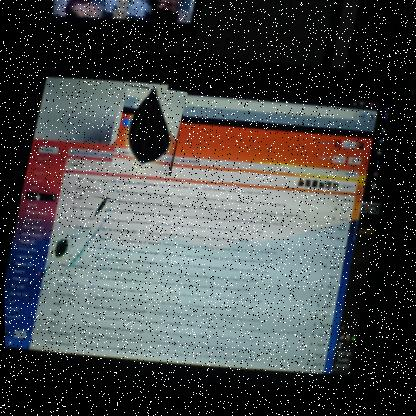crack: (109, 83, 190, 186)
spot: (114, 86, 182, 182), (84, 196, 111, 224), (49, 237, 73, 264)
